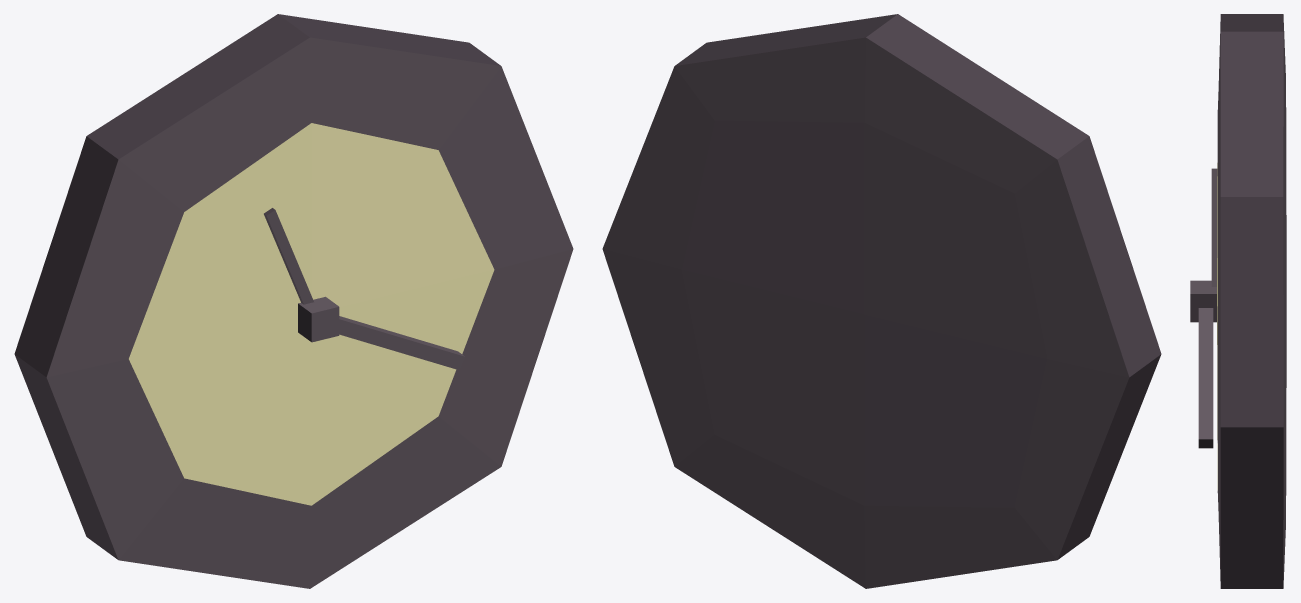
Rendered from Clock.fbx.
The picture shows the model from 3 angles, left to right: view 1: azimuth 30°, elevation 25°; view 2: azimuth 150°, elevation 25°; view 3: azimuth 270°, elevation 25°; orthographic projection. The views are drawn at different scales.
Visible parts, largest first — view 1: Clock; view 2: Clock; view 3: Clock.
Part boxes in pixels (bbox=[...]): Clock: bbox=[14, 14, 573, 588]; Clock: bbox=[602, 14, 1161, 588]; Clock: bbox=[1190, 14, 1286, 588].
Size of the model in its own units: 75.07 by 75.07 by 12.17.
